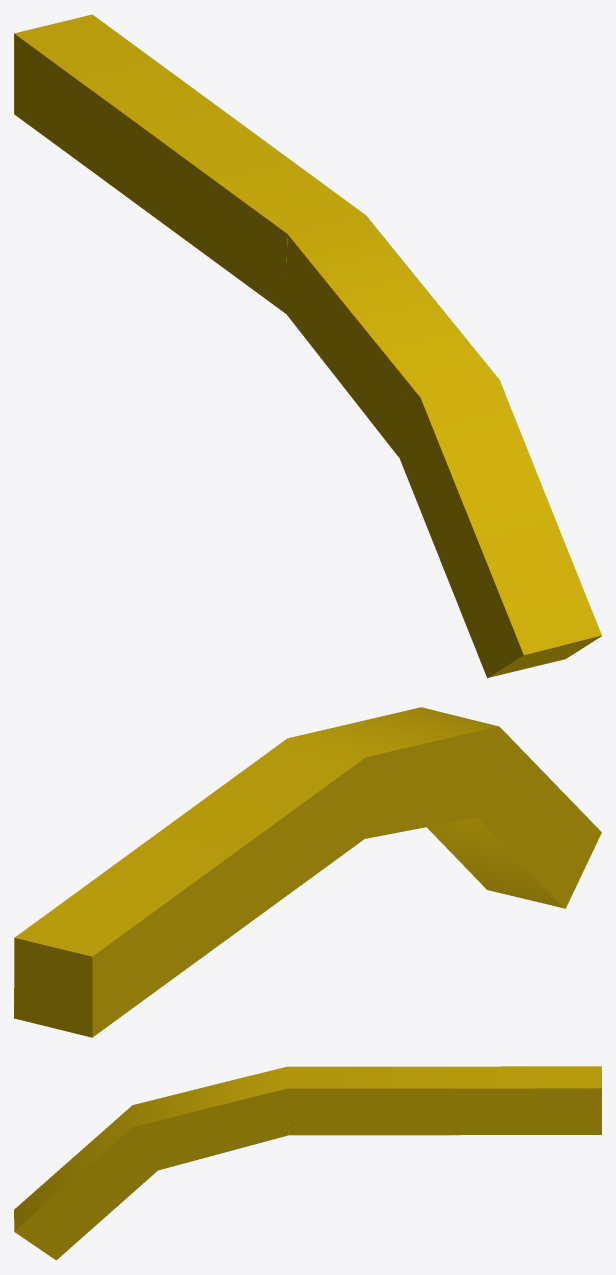
File: original_10.obj
3 views of the same model, one above another, from view 1: azimuth 30°, elevation 25°; view 2: azimuth 150°, elevation 25°; view 3: azimuth 270°, elevation 25° (orthographic). The views are drawn at different scales.
Visible parts, largest first — view 1: #ID37; view 2: #ID37; view 3: #ID37.
Part boxes in pixels (x1,y1,x2,y2): #ID37: [14, 14, 601, 678]; #ID37: [14, 707, 601, 1037]; #ID37: [14, 1066, 601, 1260].
Bounding box in the file's own units: 0.045 × 0.1631 × 0.5046.
